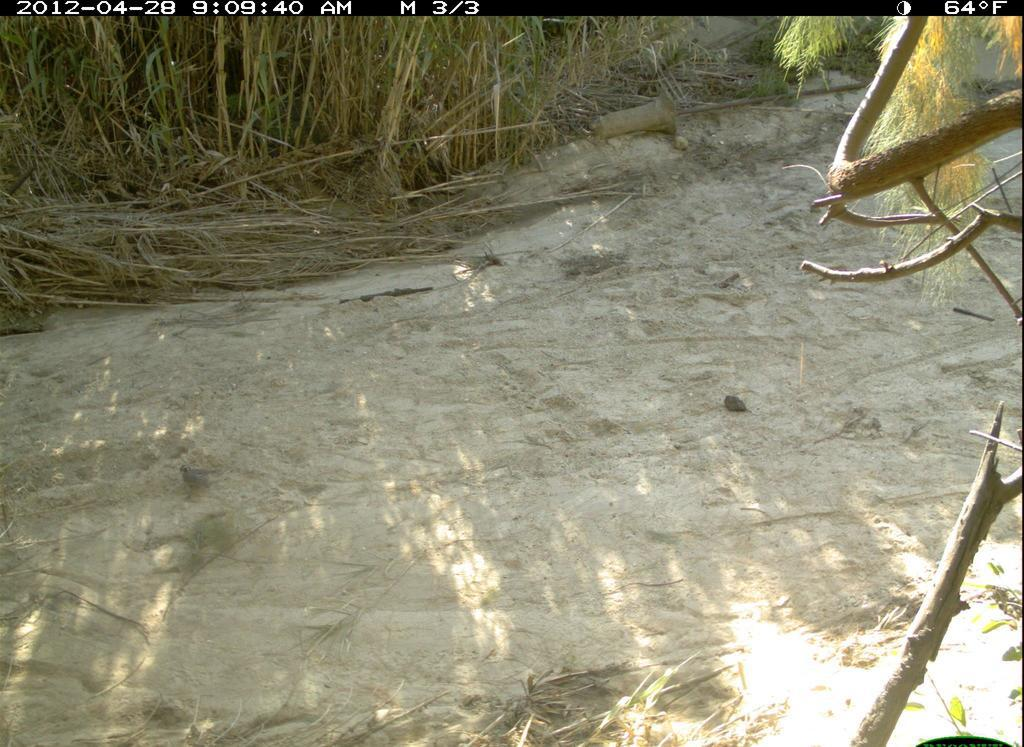bird: (172, 455, 218, 498)
